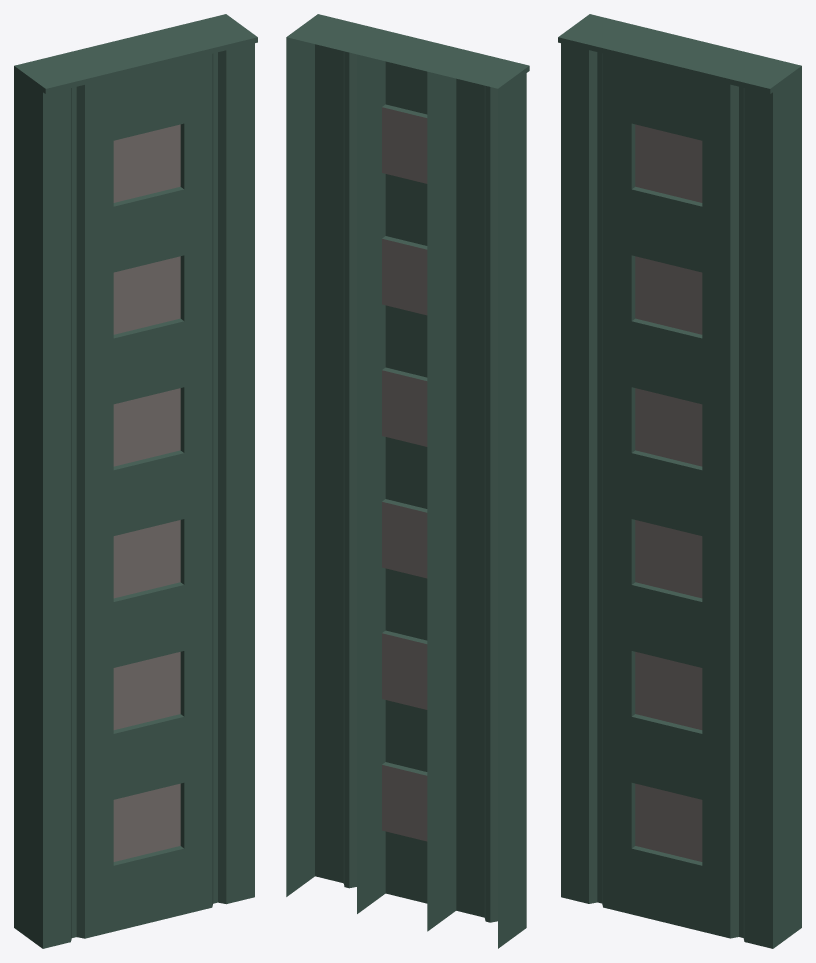
3 views of the same model, side by side, from view 1: azimuth 30°, elevation 25°; view 2: azimuth 150°, elevation 25°; view 3: azimuth 330°, elevation 25° (orthographic).
Visible parts, largest first — view 1: Column.041; view 2: Column.041; view 3: Column.041.
Boxes of the visible parts, x1,y1,x2,y2 form: Column.041: (14, 14, 257, 948); Column.041: (286, 14, 529, 948); Column.041: (558, 14, 801, 948).
Size of the model in its own units: 835 by 3245 by 217.
